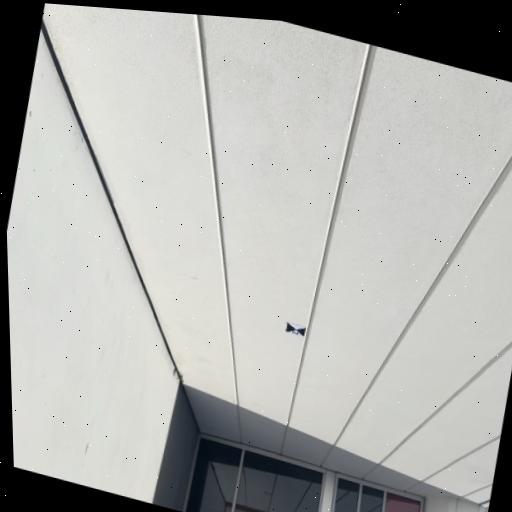target7: (285, 323, 306, 339)
